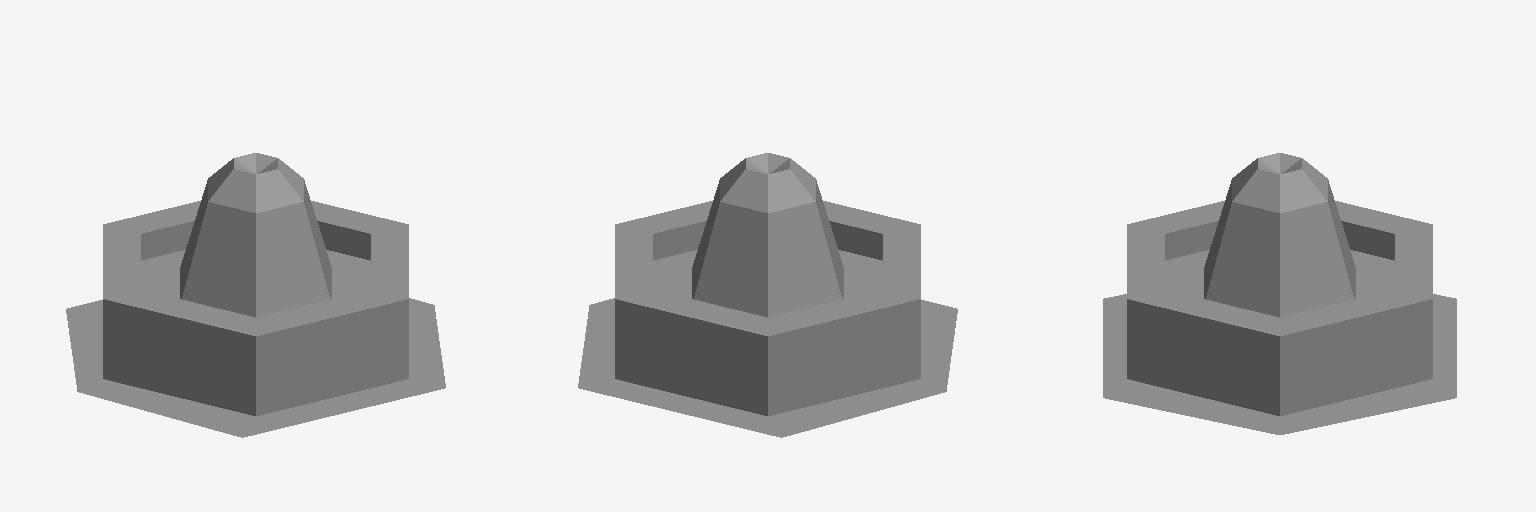
The model's file is Fountain.obj.
3 renders of one model, left to right at view 1: azimuth 30°, elevation 25°; view 2: azimuth 150°, elevation 25°; view 3: azimuth 270°, elevation 25°, orthographic.
Parts seen in each view (by area): view 1: polygon3, polygon2, polygon1, polygon0; view 2: polygon3, polygon2, polygon1, polygon0; view 3: polygon3, polygon2, polygon1, polygon0.
Part boxes in pixels (x1,y1,x2,y2): polygon3: (103, 201, 408, 415); polygon2: (180, 153, 331, 317); polygon1: (66, 298, 445, 437); polygon0: (141, 250, 370, 298); polygon3: (615, 201, 920, 415); polygon2: (692, 153, 843, 317); polygon1: (578, 298, 957, 437); polygon0: (653, 250, 882, 298); polygon3: (1127, 201, 1432, 415); polygon2: (1204, 153, 1355, 317); polygon1: (1103, 294, 1456, 434); polygon0: (1165, 250, 1394, 298).
Bounding box in the file's own units: 4.9 × 2.43 × 4.2.